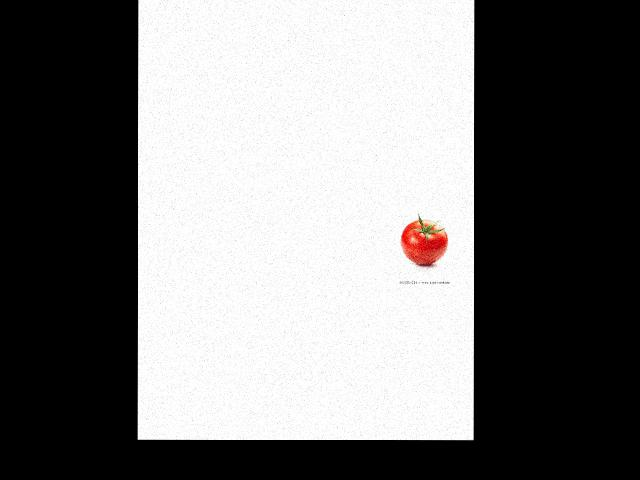tomato: (400, 219, 447, 264)
